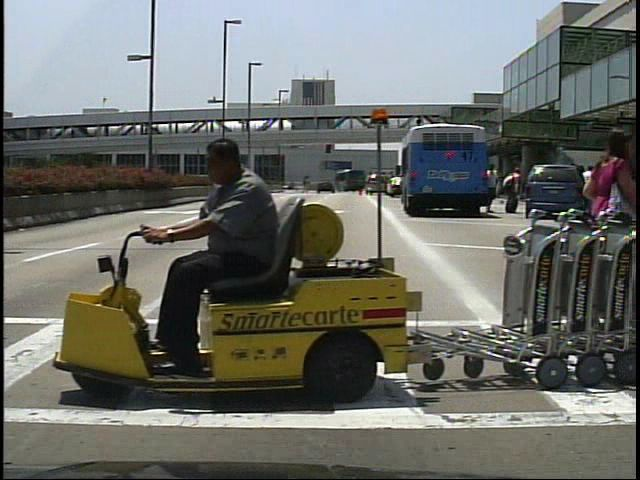person: (160, 135, 285, 374), (582, 119, 638, 350), (480, 162, 501, 216), (580, 165, 601, 214), (504, 165, 523, 217)
